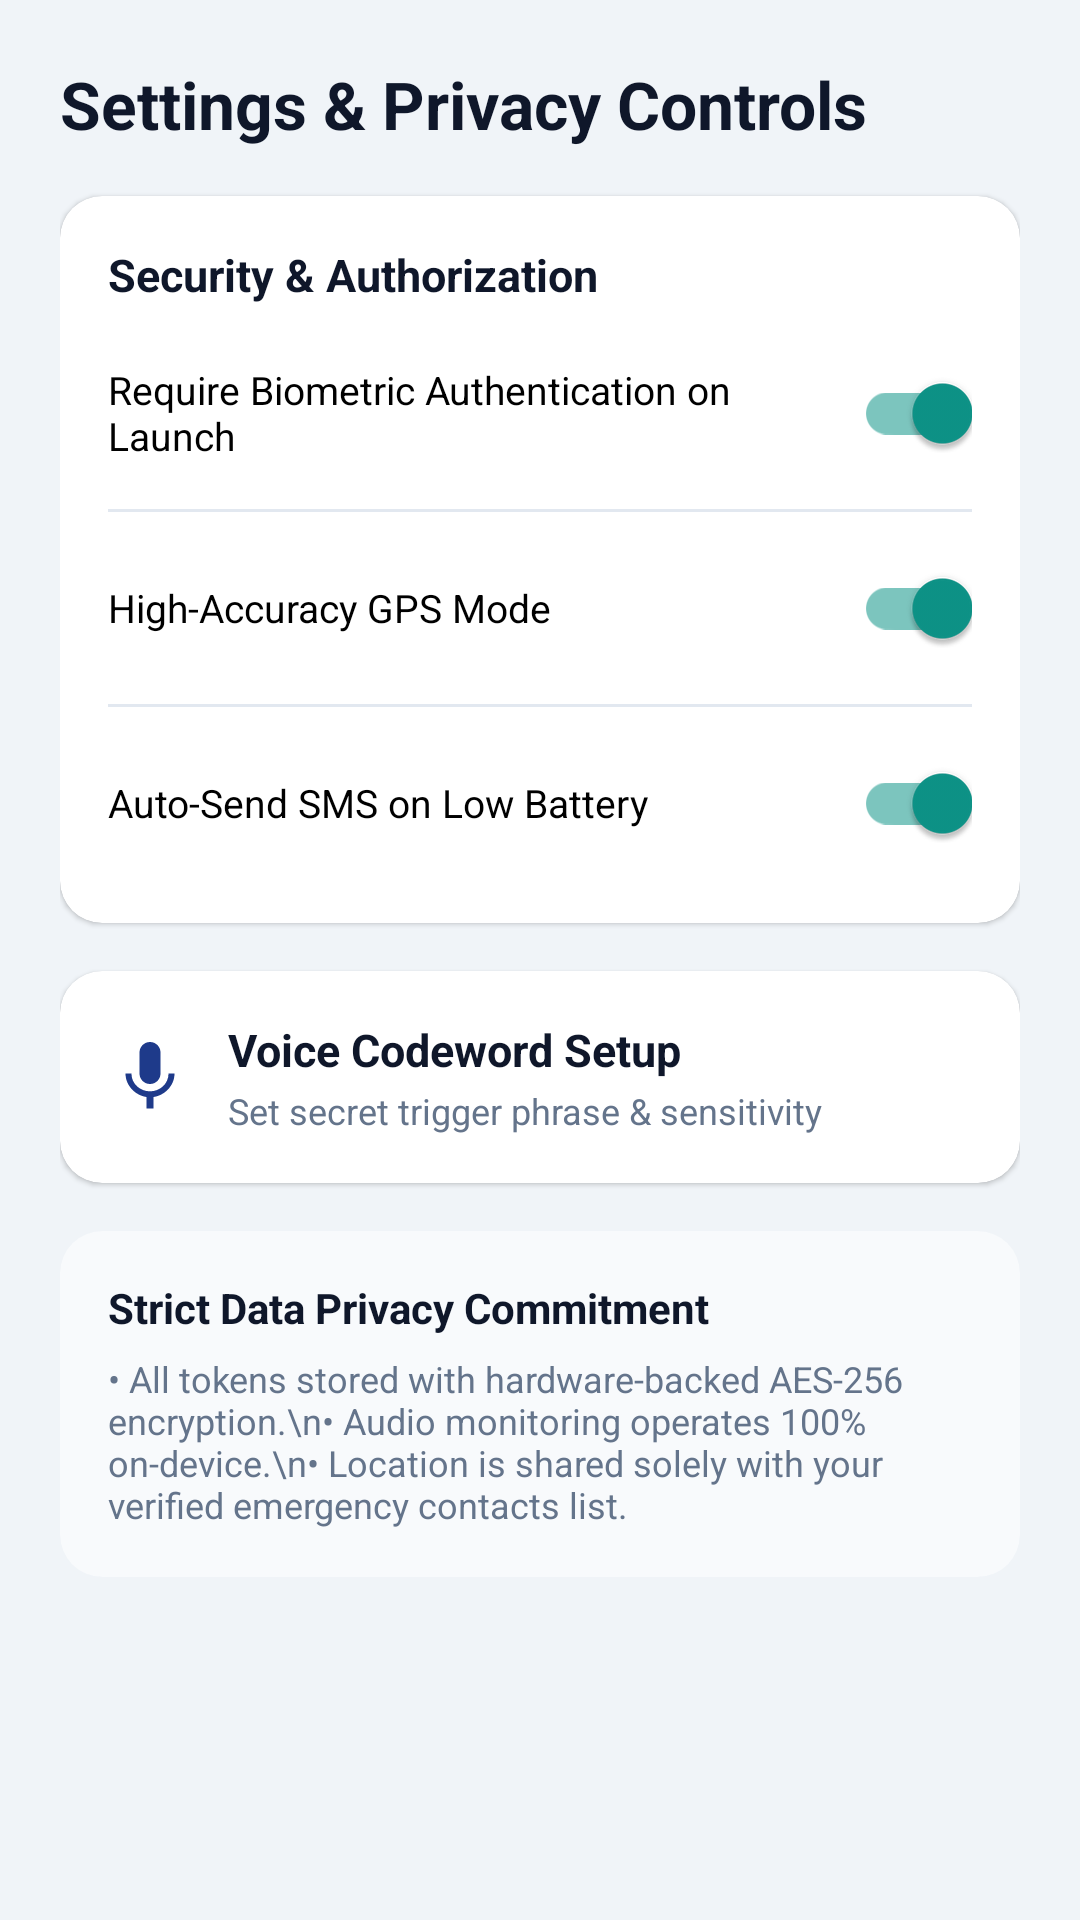

Named icons in this screenshot (1080w x 1920h) and their bounding boxes, (x1, y1, x2, y2):
mic: (125, 1042, 175, 1109)
